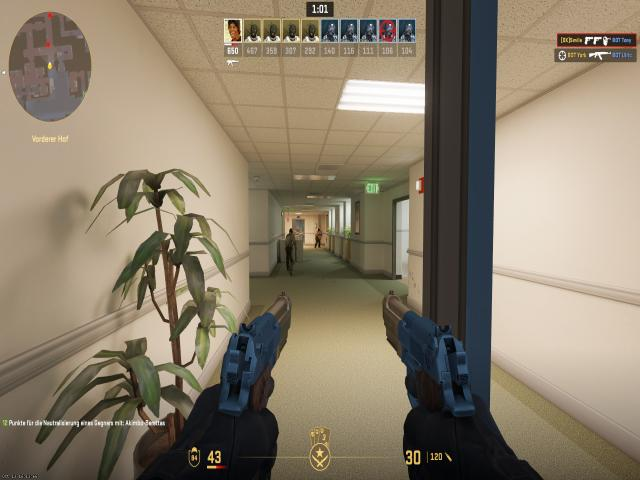T: (285, 228, 294, 271), (315, 228, 321, 247)
T-Head: (288, 228, 294, 236), (317, 228, 320, 232)
